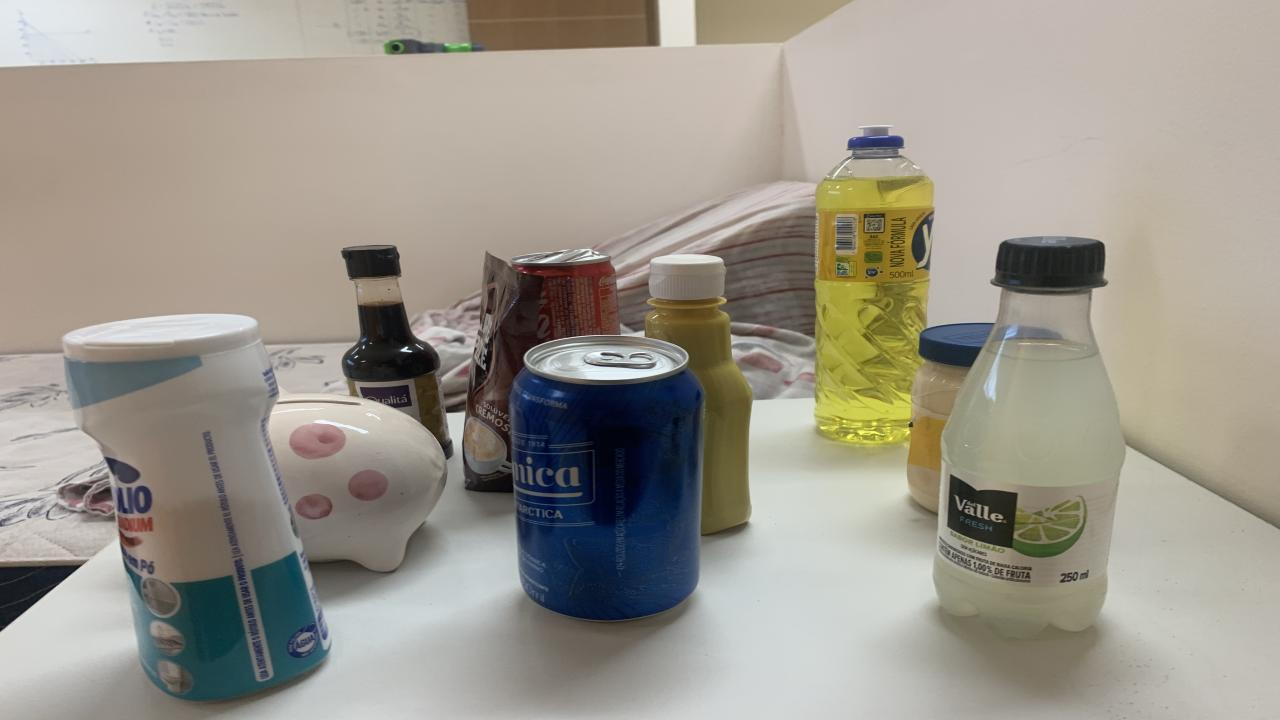Cleaner-Cleanup_Items: (65, 315, 330, 701)
Coffee-Pantry_Items: (462, 253, 542, 491)
Coke-Drinks: (510, 249, 620, 339)
Detergent-Cleanup_Items: (815, 126, 935, 444)
English_Sauce-Pantry_Items: (342, 246, 452, 458), (222, 416, 225, 418)
Mayonnaise-Pantry_Items: (908, 322, 992, 512)
Mustard-Pantry_Items: (645, 255, 752, 534)
Pig_Safe-Miscellaneous: (270, 392, 448, 572)
Soda-Drinks: (935, 236, 1125, 636)
Tonic-Drinks: (510, 334, 705, 621)
